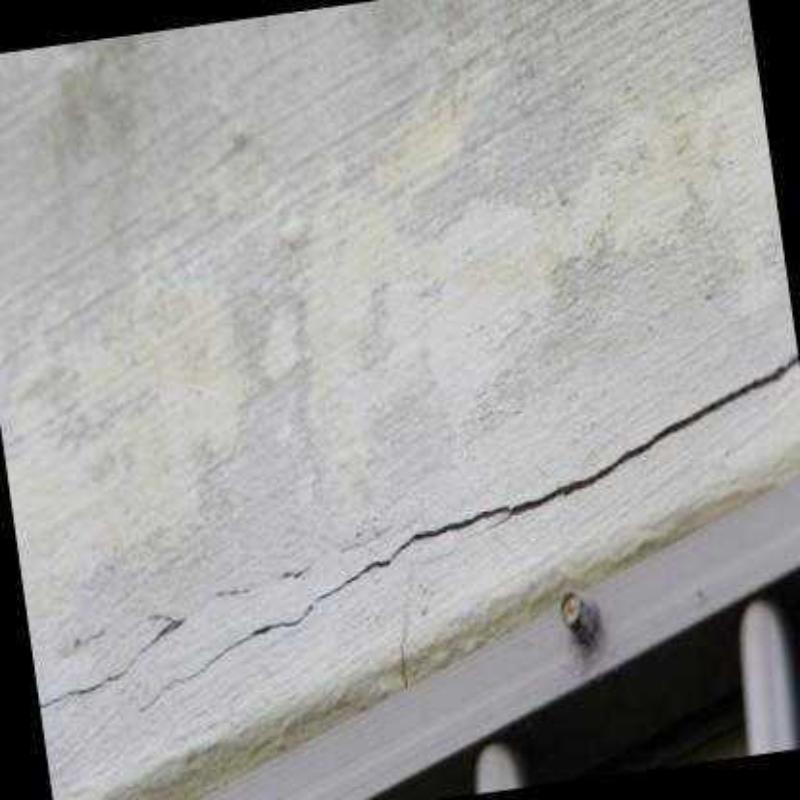pothole: (145, 343, 798, 709), (35, 617, 183, 706), (398, 631, 410, 690)
